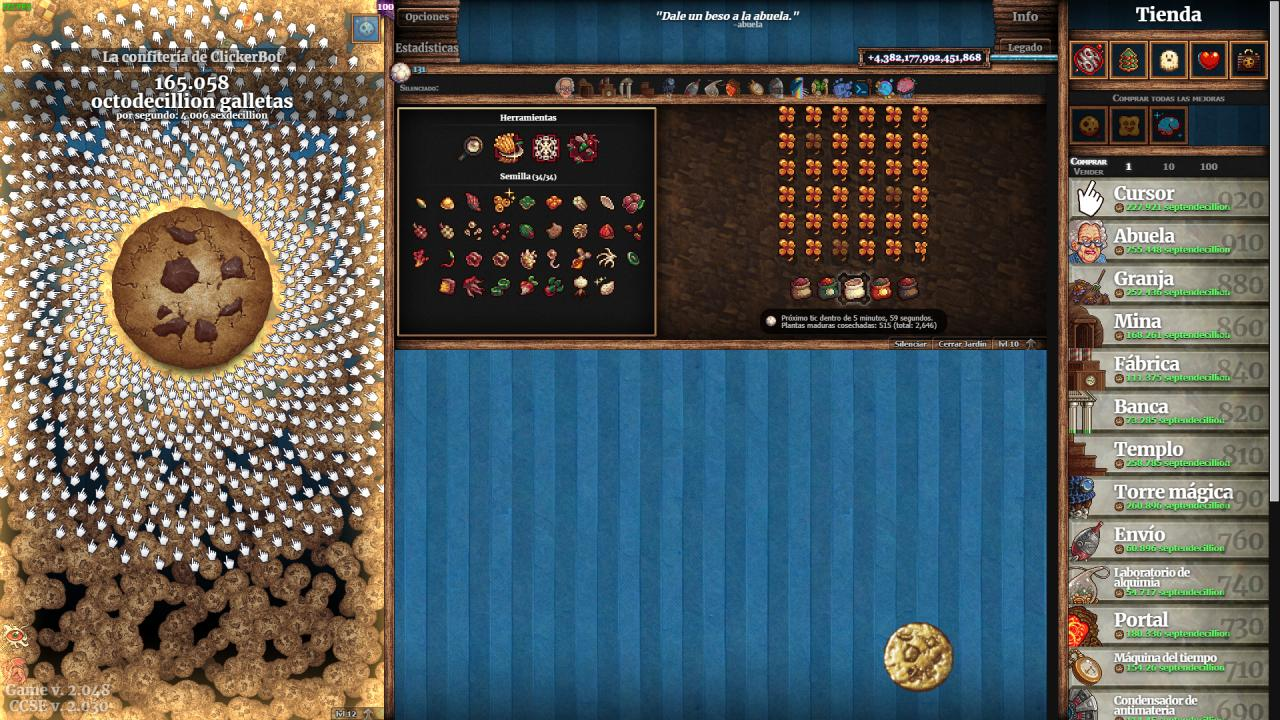GoldenCookie: (883, 621, 956, 693)
